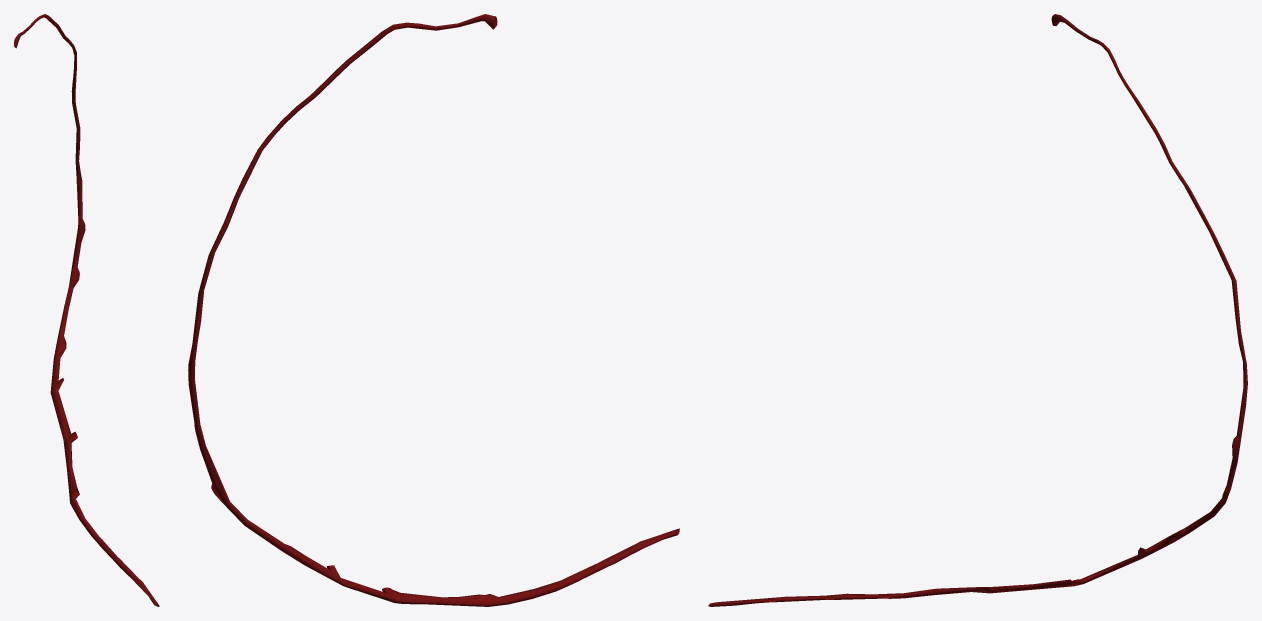
File: L arteria musculophrenica.fbx
The picture shows the model from 3 angles, left to right: view 1: azimuth 30°, elevation 25°; view 2: azimuth 150°, elevation 25°; view 3: azimuth 270°, elevation 25°; orthographic projection. The views are drawn at different scales.
Parts seen in each view (by area): view 1: L arteria musculophrenica, L arteria musculophrenica low; view 2: L arteria musculophrenica, L arteria musculophrenica low; view 3: L arteria musculophrenica, L arteria musculophrenica low.
Boxes of the visible parts, left/top/right/bottom form: L arteria musculophrenica: left=14, top=14, right=159, bottom=606; L arteria musculophrenica low: left=14, top=15, right=159, bottom=605; L arteria musculophrenica: left=188, top=14, right=679, bottom=606; L arteria musculophrenica low: left=188, top=16, right=679, bottom=606; L arteria musculophrenica: left=708, top=14, right=1247, bottom=606; L arteria musculophrenica low: left=709, top=19, right=1247, bottom=605.
Size of the model in its own units: 12.68 by 39.83 by 32.95.
